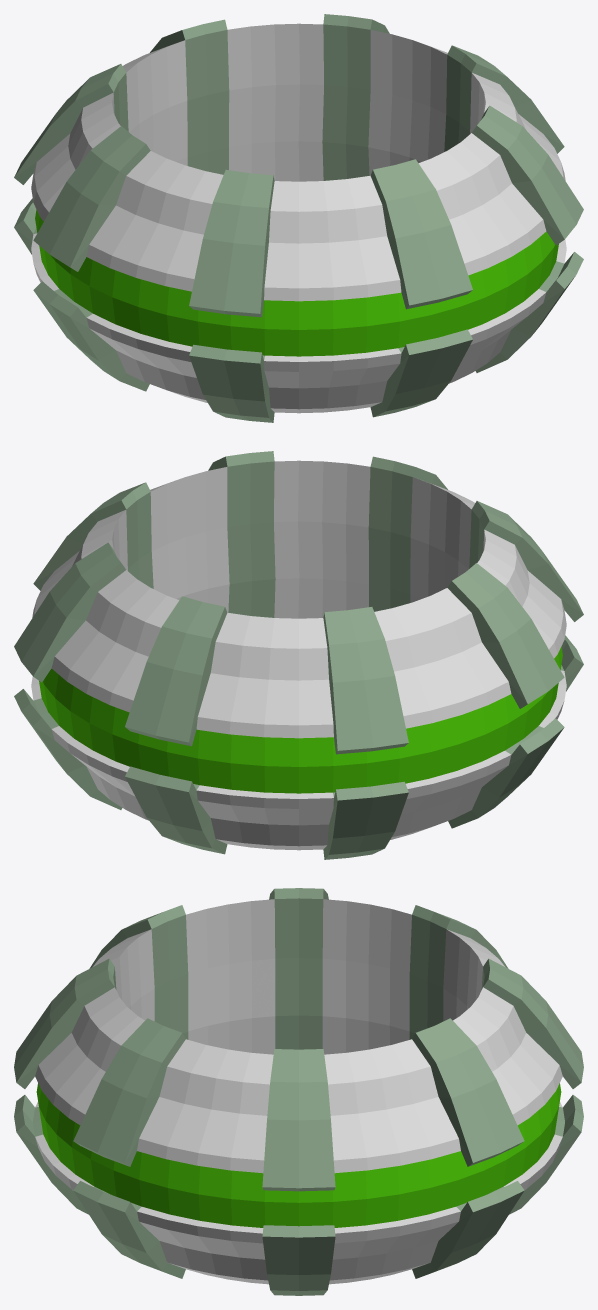
Rendered from Bracelet.fbx.
3 renders of one model, top to bottom at view 1: azimuth 30°, elevation 25°; view 2: azimuth 150°, elevation 25°; view 3: azimuth 270°, elevation 25°, orthographic.
Visible parts, largest first — view 1: Torus; view 2: Torus; view 3: Torus.
Boxes of the visible parts, bbox=[...] form: Torus: bbox=[14, 14, 583, 422]; Torus: bbox=[14, 451, 583, 859]; Torus: bbox=[14, 888, 583, 1295].
Bounding box in the file's own units: 18.49 × 8.78 × 18.42.
